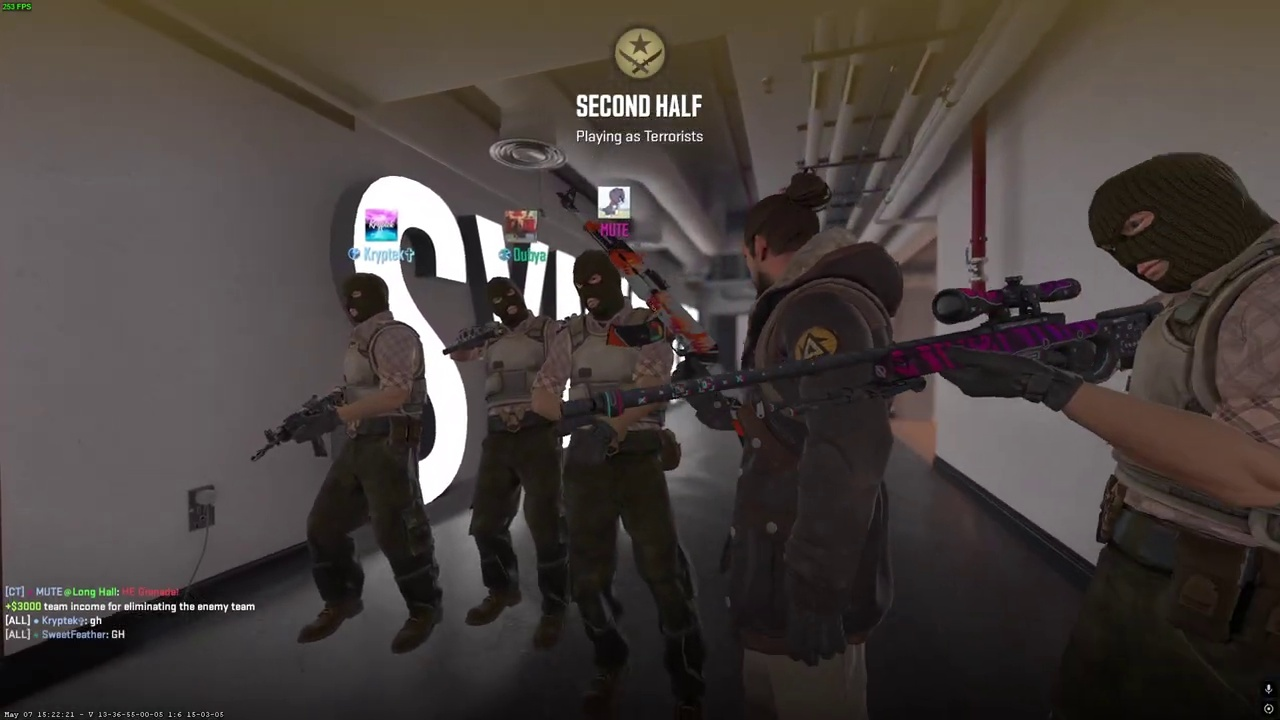Terrorist: (1037, 151, 1280, 719), (694, 175, 905, 719), (542, 250, 705, 720), (277, 272, 445, 655), (447, 277, 579, 654)
